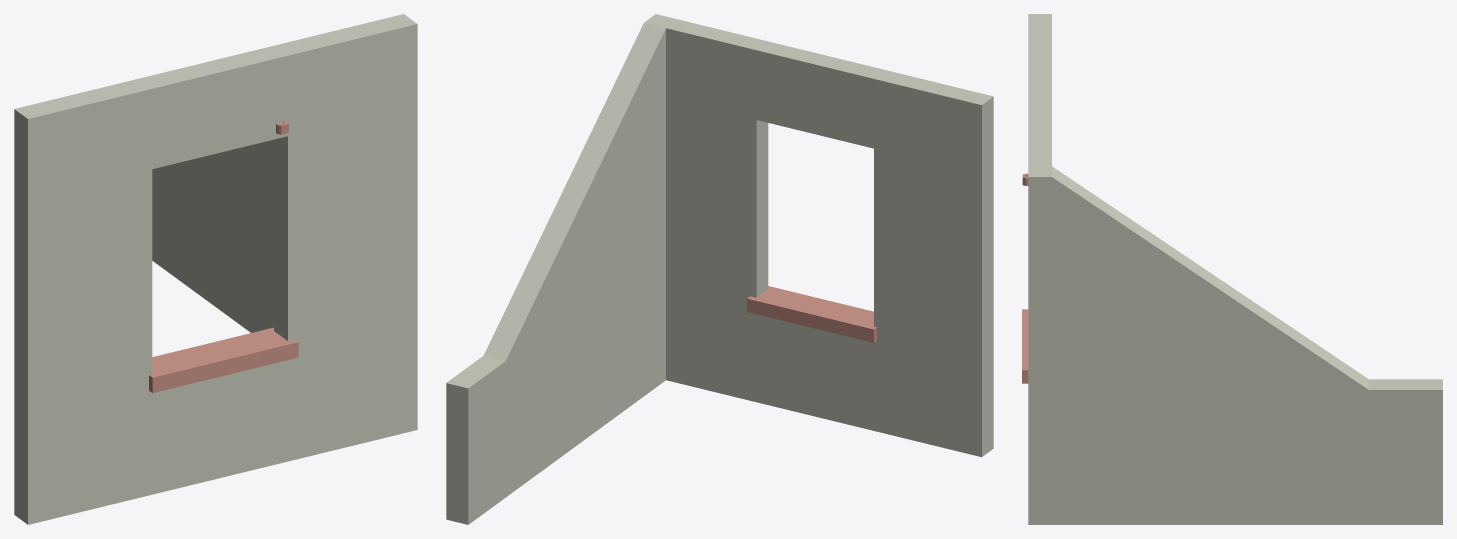
File: SM_Wall.fbx
3 renders of one model, left to right at view 1: azimuth 30°, elevation 25°; view 2: azimuth 150°, elevation 25°; view 3: azimuth 270°, elevation 25°, orthographic. The views are drawn at different scales.
Visible parts, largest first — view 1: SM_Wall; view 2: SM_Wall; view 3: SM_Wall.
Part boxes in pixels (x1,y1,x2,y2): SM_Wall: (14,14,417,524); SM_Wall: (446,14,993,524); SM_Wall: (1022,14,1442,524).
Size of the model in its own units: 1.61 by 1.6 by 1.75.
